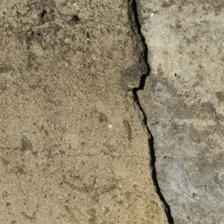Crack: (60, 3, 117, 221)
